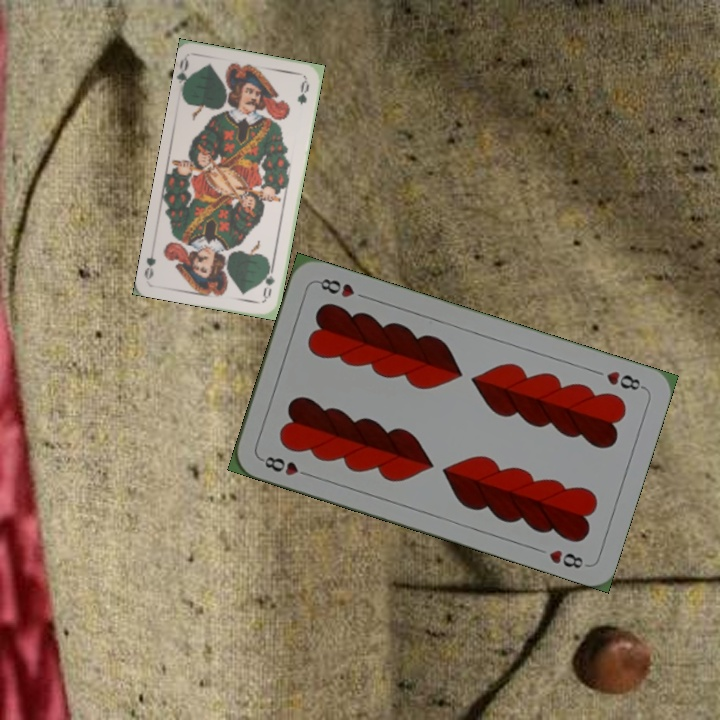GO: (174, 54, 197, 95), (259, 261, 277, 302)
H8: (256, 452, 314, 479), (602, 367, 647, 393)
